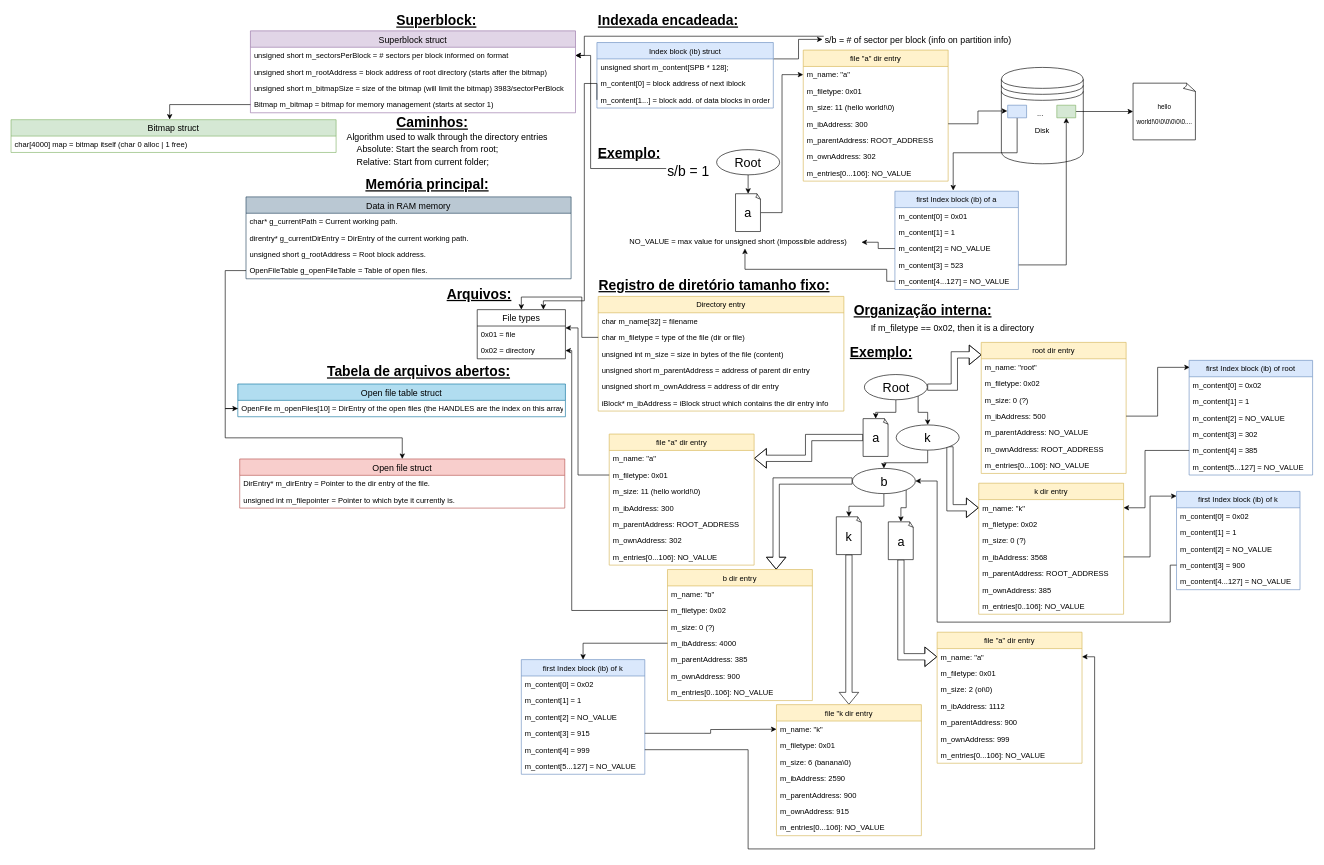
Some shapes in this 1324 by 865 pixel diagram are drawn without their labels. Here are the shapes that lost their labels. From the top down, the centre of each, then its label:
pixel 1017 111: b.a.: 300
pixel 1066 111: b.a.: 523
